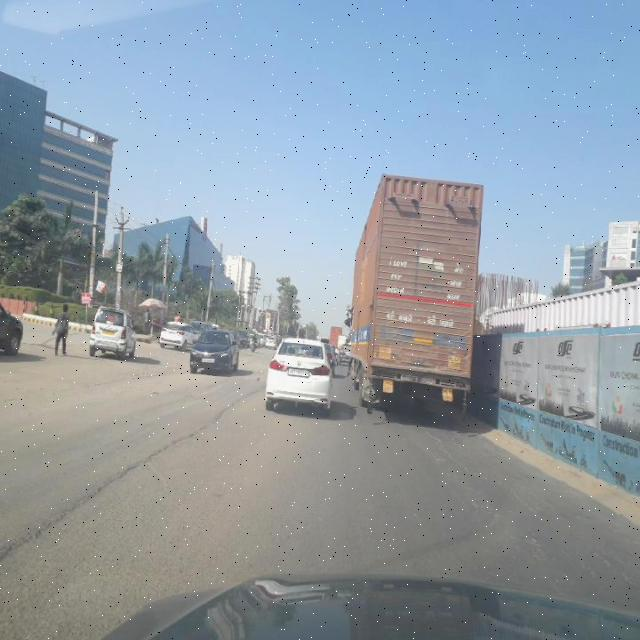D20: (426, 417, 633, 587)
